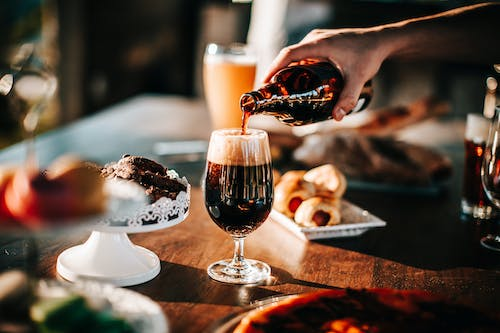alcohol: (202, 128, 275, 285), (238, 57, 374, 127), (460, 111, 496, 221), (479, 103, 500, 252)
